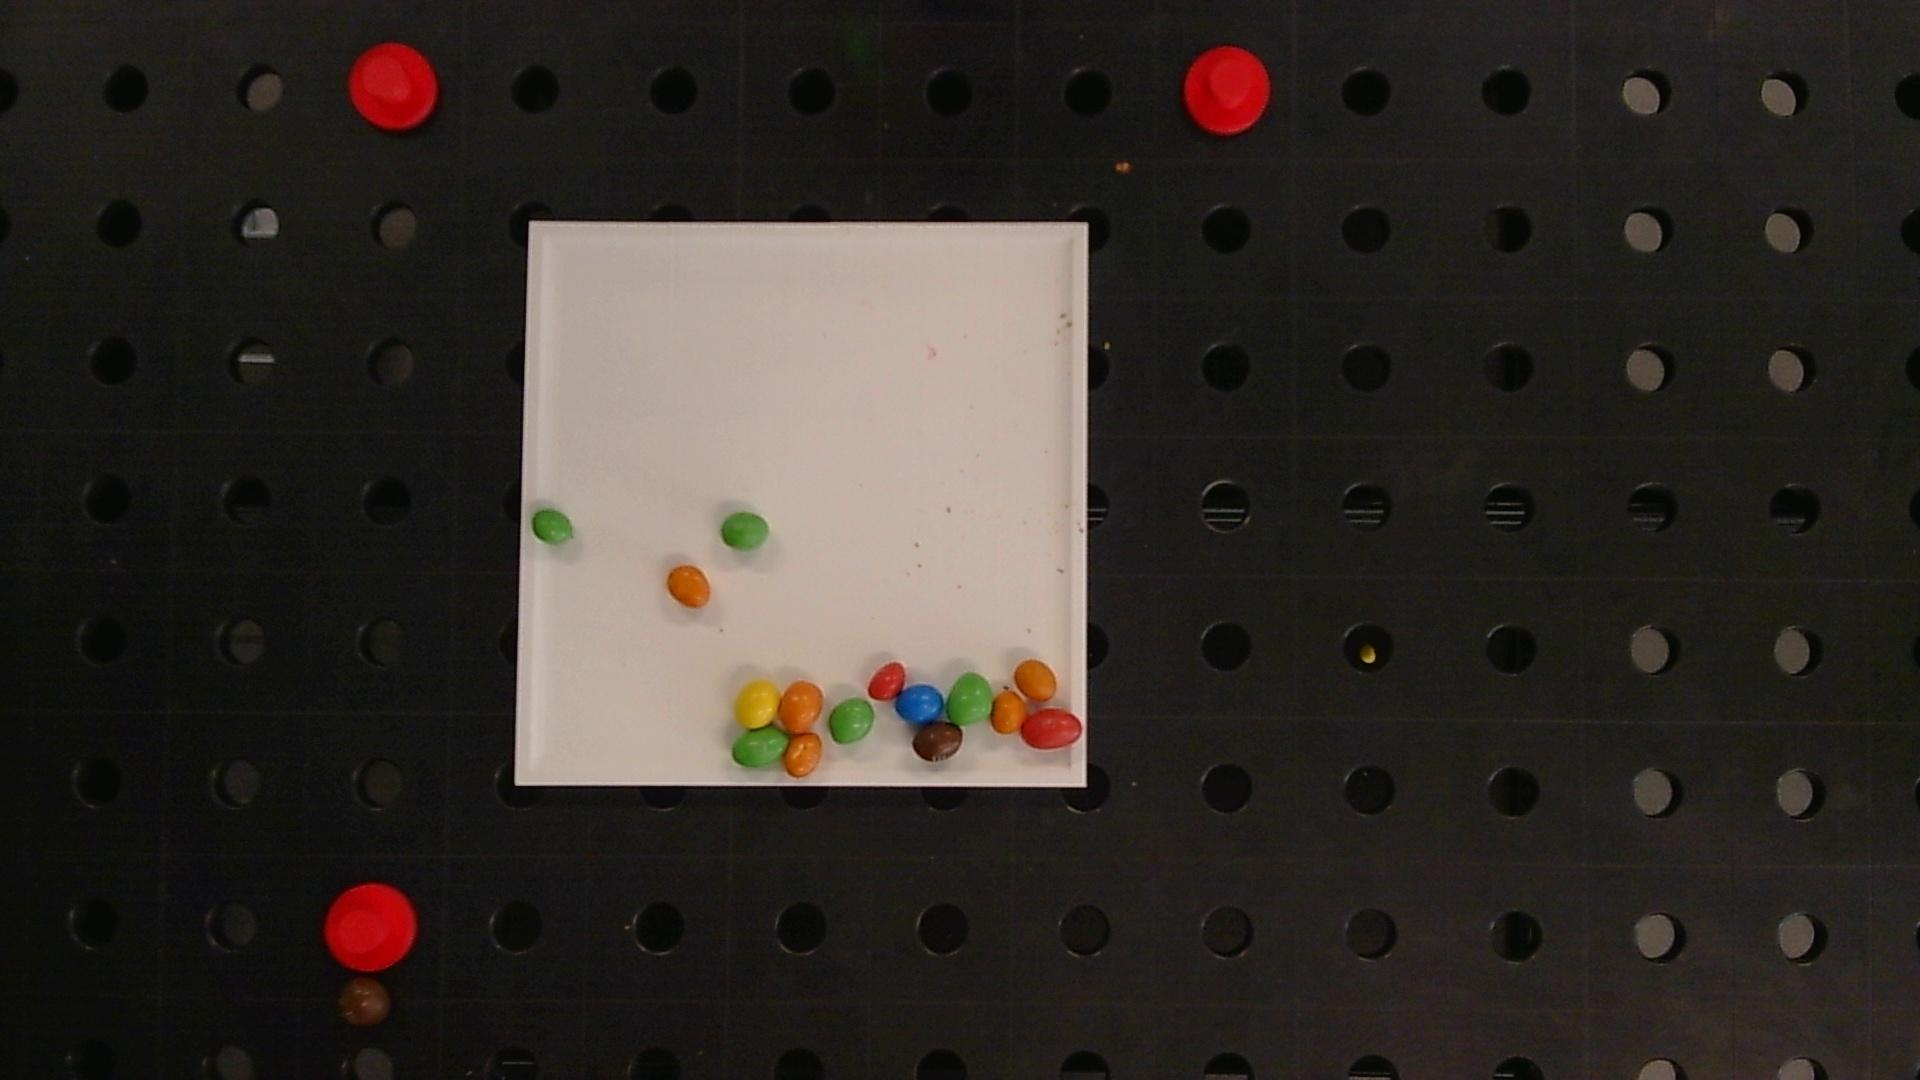blue: (895, 683, 944, 724)
brown: (913, 721, 964, 761)
green: (947, 673, 993, 724), (732, 728, 789, 769), (828, 698, 874, 744), (720, 512, 770, 550), (531, 509, 574, 545)
orange: (779, 680, 823, 732), (667, 564, 711, 608), (1014, 658, 1056, 702), (785, 732, 822, 777), (992, 690, 1025, 733)
red: (1019, 709, 1083, 749), (868, 661, 905, 700)
yellow: (736, 679, 781, 729)
